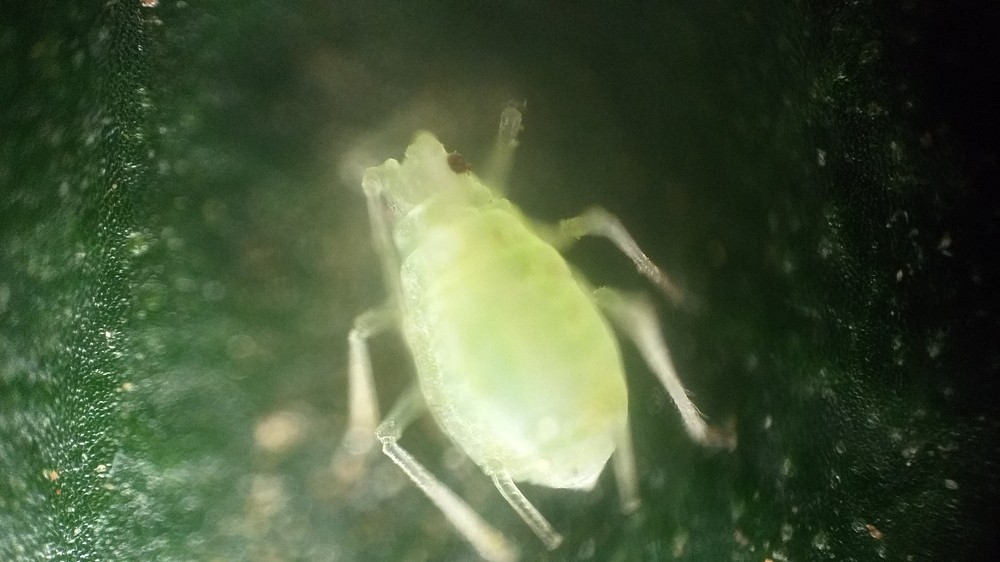Pulgon: (262, 84, 764, 559)
